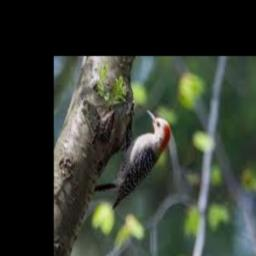Woodpecker: (93, 107, 170, 209)
